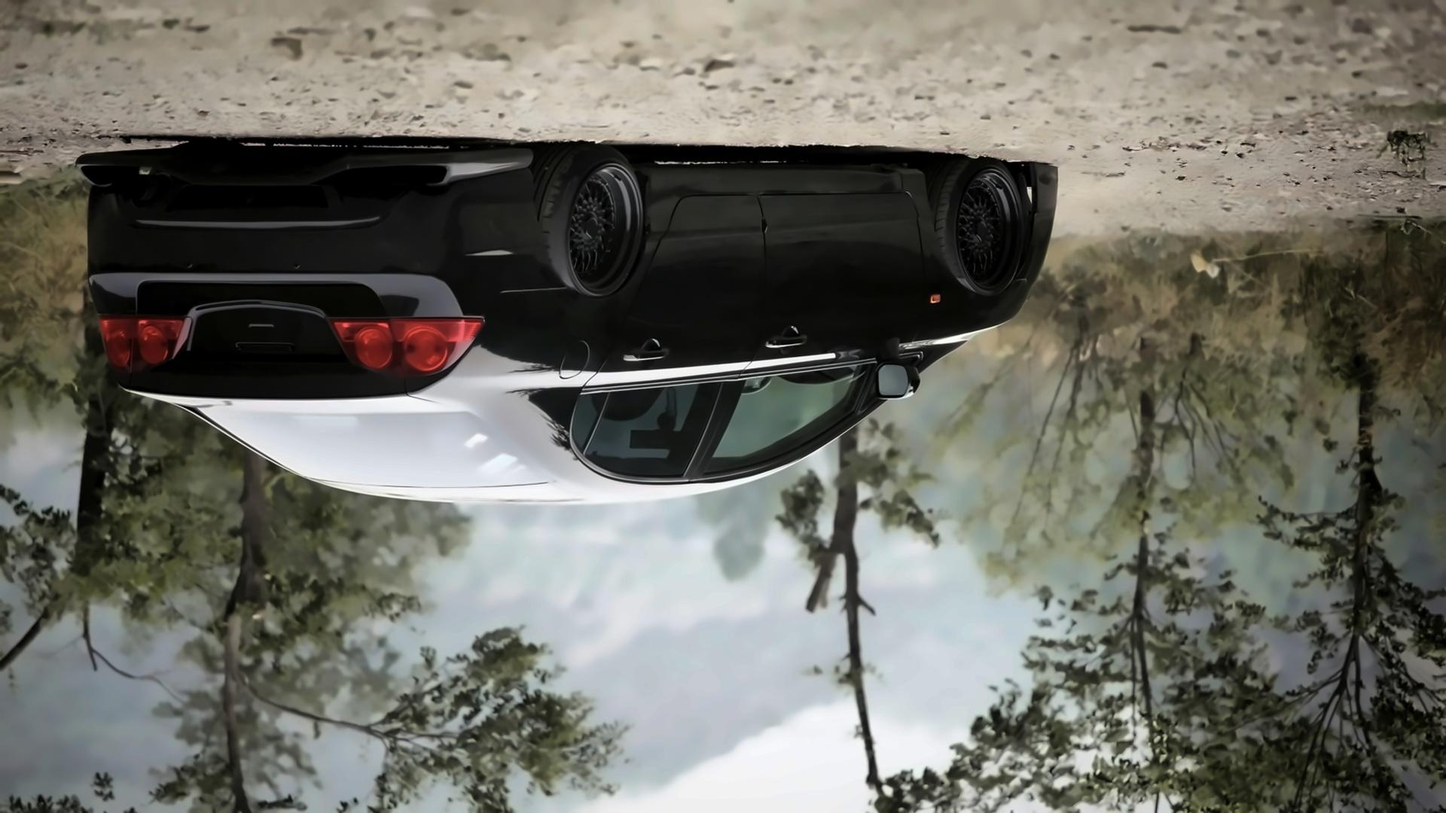Car boot: (130, 273, 428, 411)
Fender - -F-L-: (920, 175, 1026, 392)
Fender - -R-L-: (459, 169, 661, 434)
Front bumper: (1023, 157, 1074, 299)
Passenger-s door - -F-L-: (707, 184, 923, 496)
Passenger-s door - -R-L-: (568, 185, 767, 487)
Rear bumper: (51, 140, 573, 289)
Rear light - -L-: (316, 307, 494, 382)
Rear light - -R-: (91, 307, 209, 384)
Side mirror - -L-: (866, 343, 936, 407)
